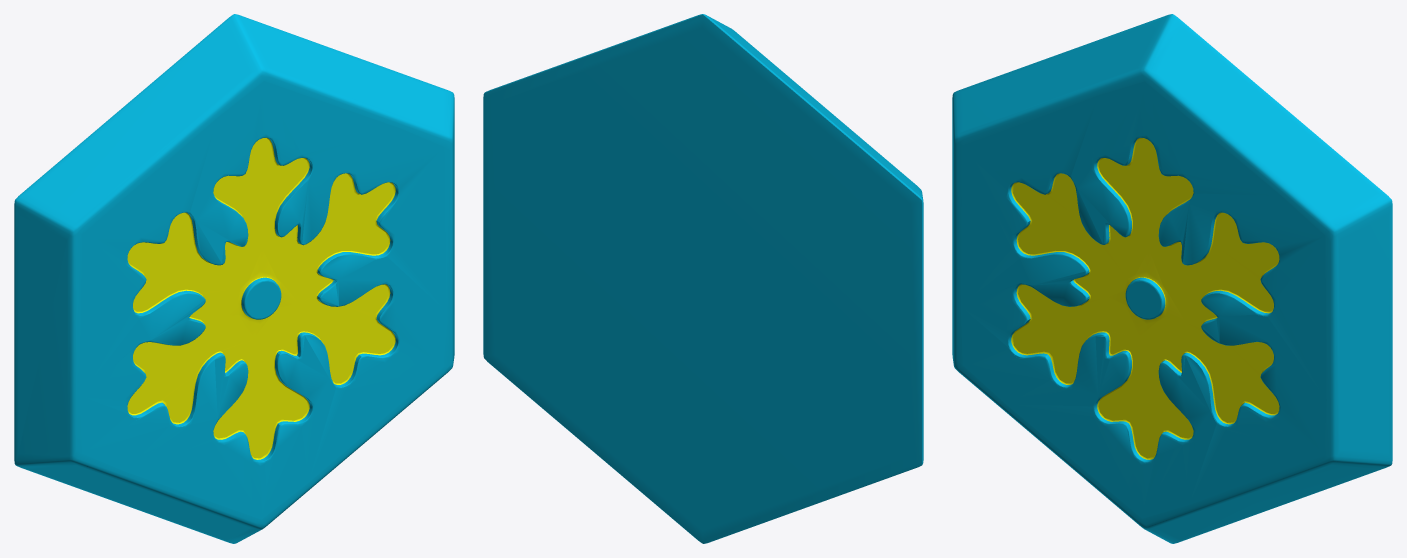
The model's file is coin.fbx.
The picture shows the model from 3 angles, left to right: view 1: azimuth 30°, elevation 25°; view 2: azimuth 150°, elevation 25°; view 3: azimuth 330°, elevation 25°; orthographic projection.
Visible parts, largest first — view 1: snow coin; view 2: snow coin; view 3: snow coin.
Part boxes in pixels (x1,y1,x2,y2): snow coin: [14, 14, 454, 543]; snow coin: [483, 14, 923, 543]; snow coin: [952, 14, 1392, 543].
Size of the model in its own units: 430 by 495 by 50.
